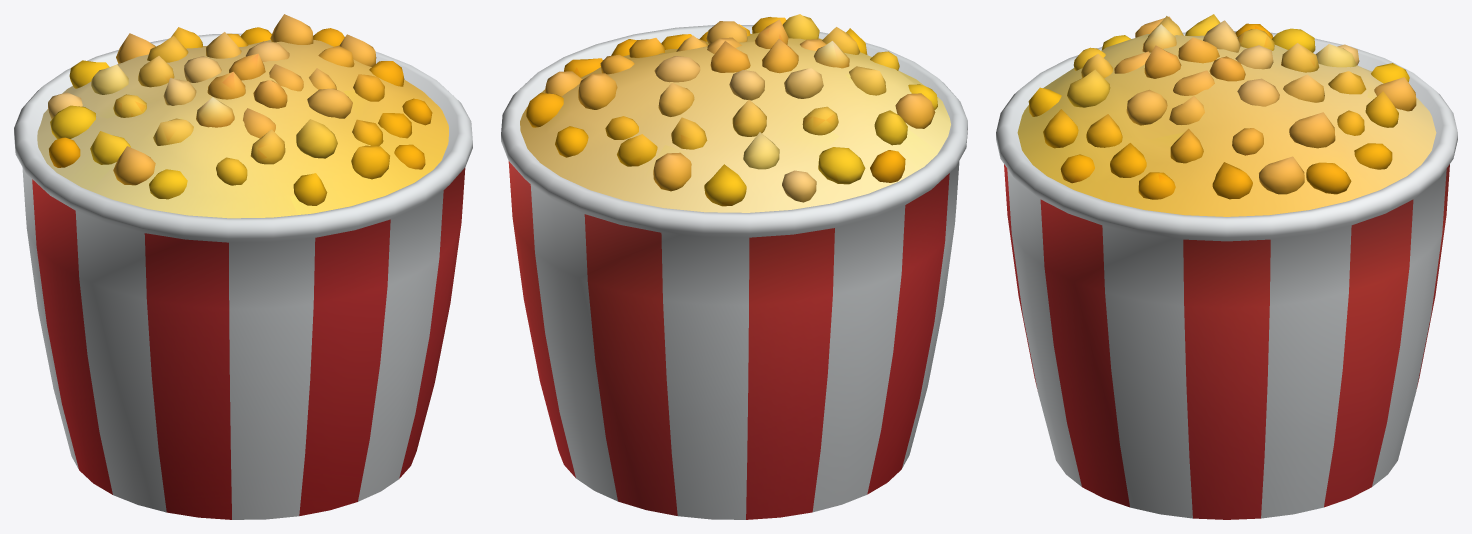
Rendered from popcorn_001.fbx.
3 views of the same model, side by side, from view 1: azimuth 30°, elevation 25°; view 2: azimuth 150°, elevation 25°; view 3: azimuth 270°, elevation 25° (orthographic).
Parts seen in each view (by area): view 1: popcorn_001; view 2: popcorn_001; view 3: popcorn_001.
Boxes of the visible parts, x1,y1,x2,y2 form: popcorn_001: (14, 14, 472, 519); popcorn_001: (501, 14, 967, 519); popcorn_001: (996, 14, 1457, 519).
Size of the model in its own units: 21.63 by 21.63 by 20.5.
